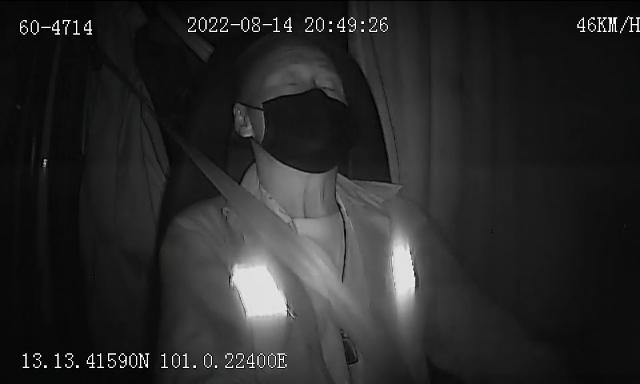Seatbelt: (186, 146, 378, 366)
